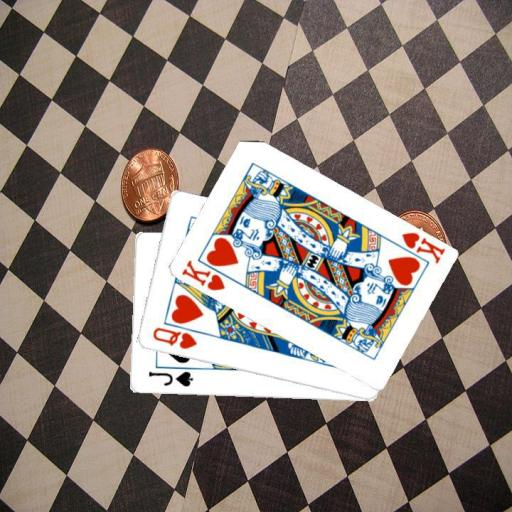JS: (145, 368, 194, 389)
KH: (178, 257, 226, 293), (398, 229, 446, 265)
QH: (149, 325, 198, 352)
